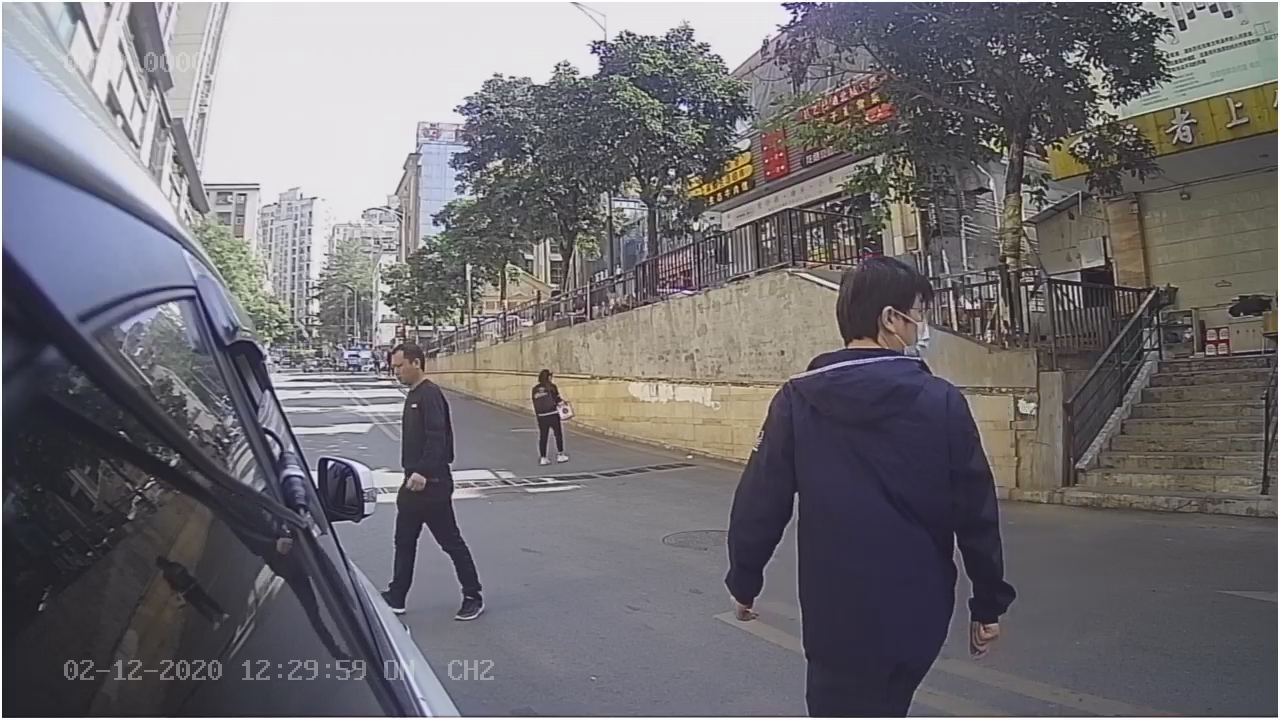person: (717, 246, 1008, 660), (383, 339, 463, 491)
